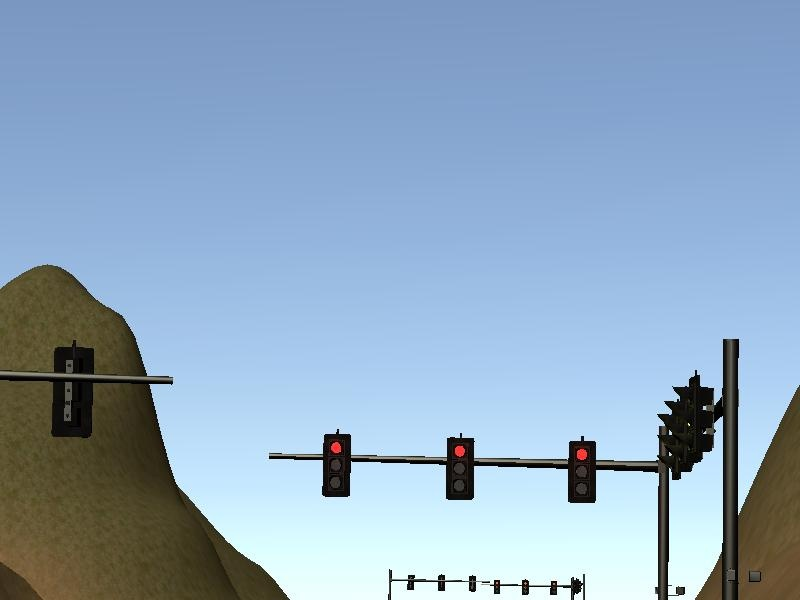red: (321, 434, 348, 496), (569, 443, 594, 504), (447, 438, 472, 498)
